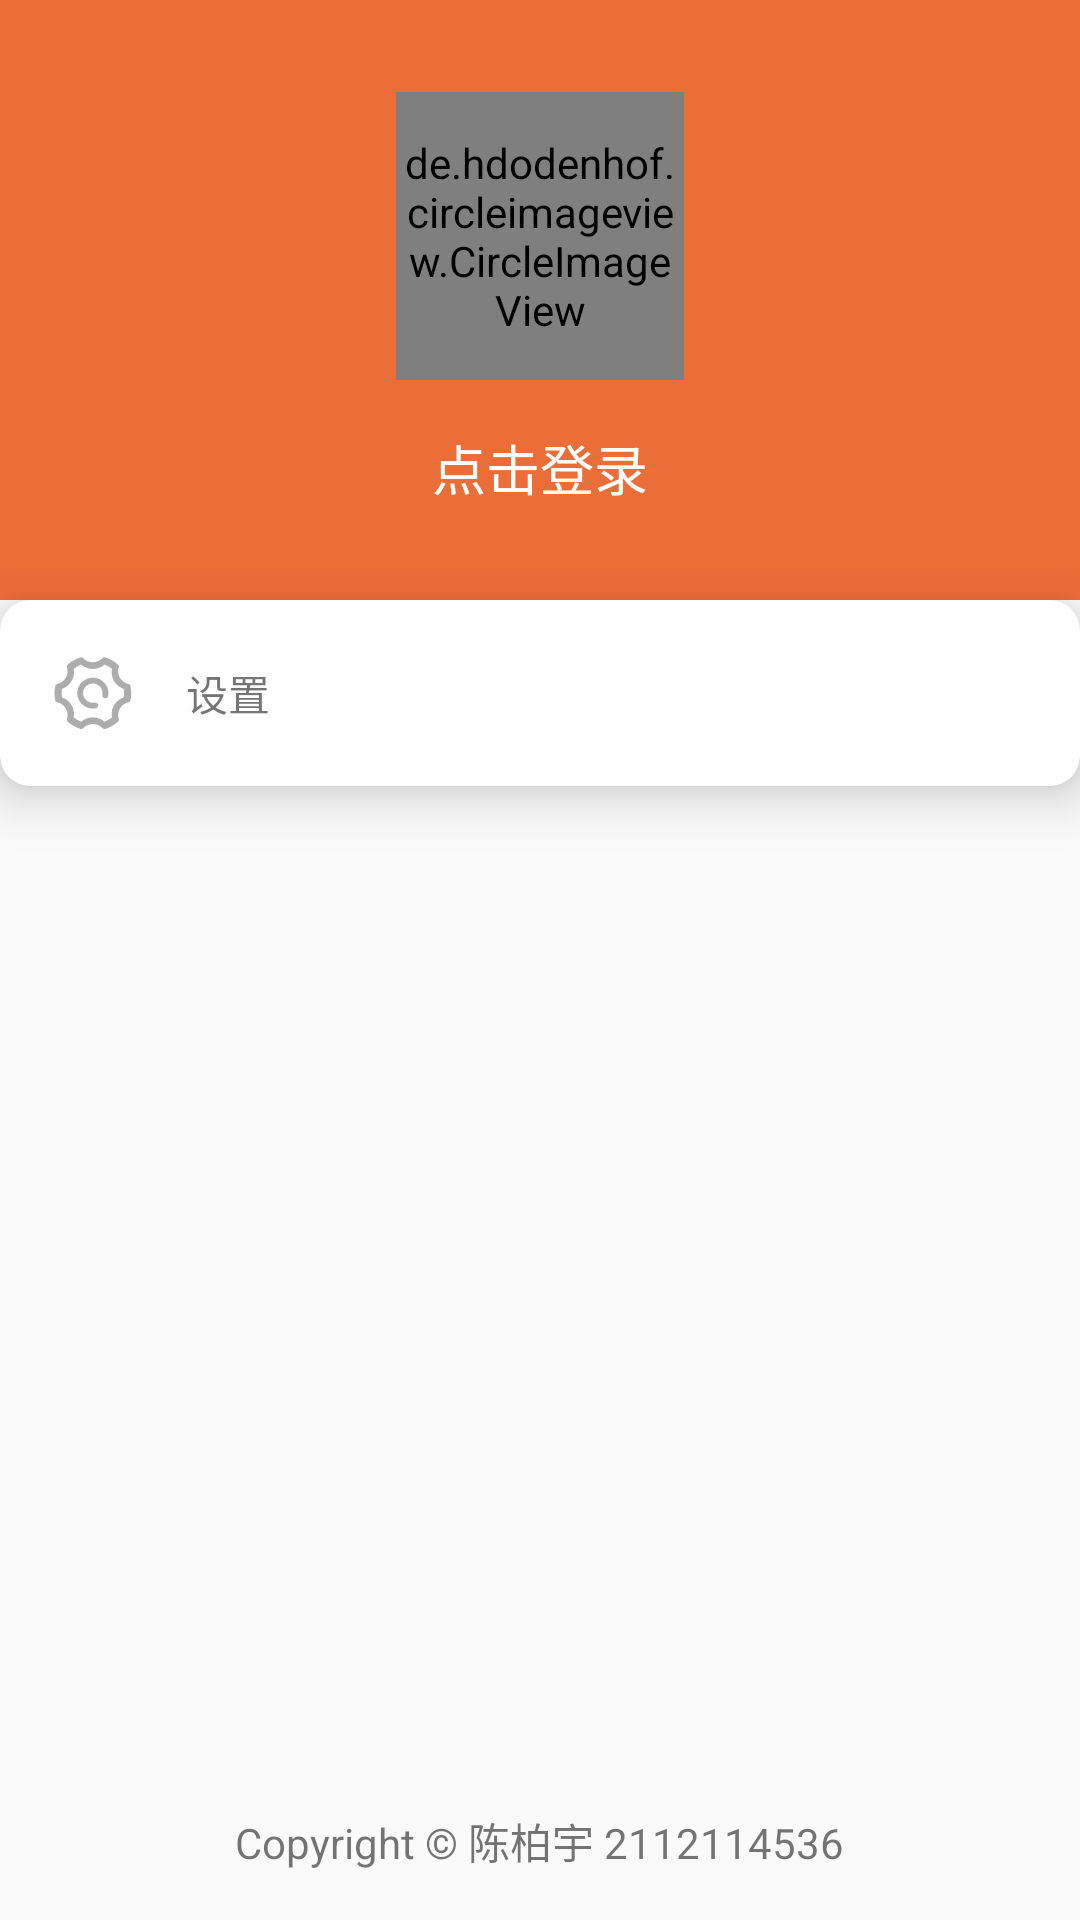

Screen size 1080w x 1920h. Icon name, then its center in pixels as point (x, y):
setting: point (92, 693)
